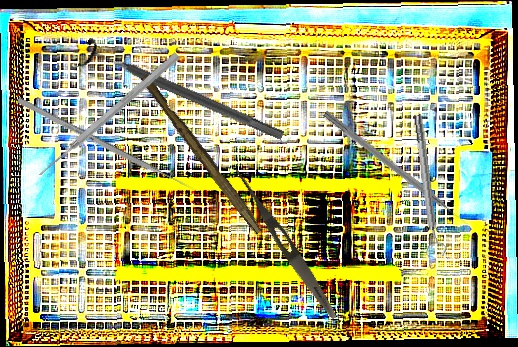Dressing Forceps: (227, 163, 342, 323)
Fixation Ring: (76, 35, 290, 152), (407, 113, 448, 258)
Pusher: (35, 50, 182, 180), (16, 96, 198, 195), (321, 110, 471, 230)
Scalpel Handle: (136, 73, 268, 235)
